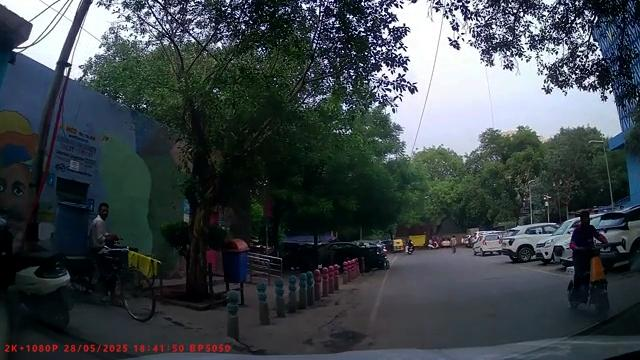motorcycle_without_helmet: (565, 209, 613, 317)
